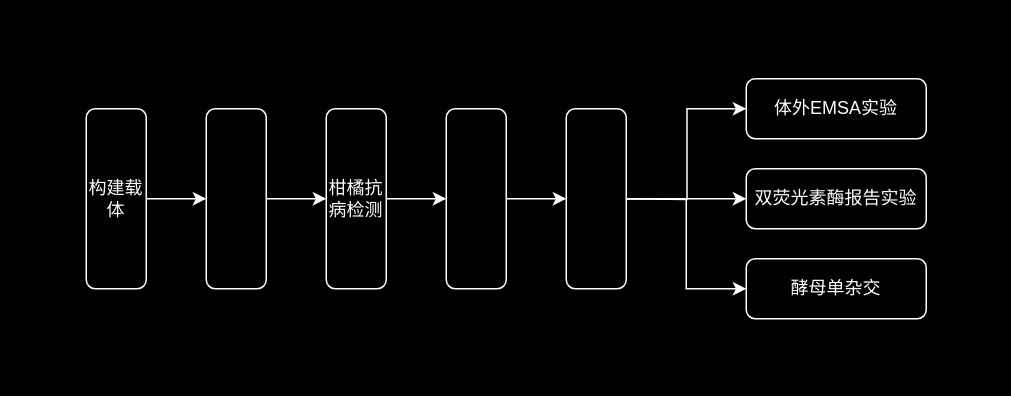
Image size: 1011x396. Some labels were removed from this diagram. Here are the shapes that lost their labels. From the top down, the centre of each, then its label:
point (235, 198): 过表达烟草抗病检测
point (475, 198): 靶基因的筛选
point (595, 198): 转录组分析
